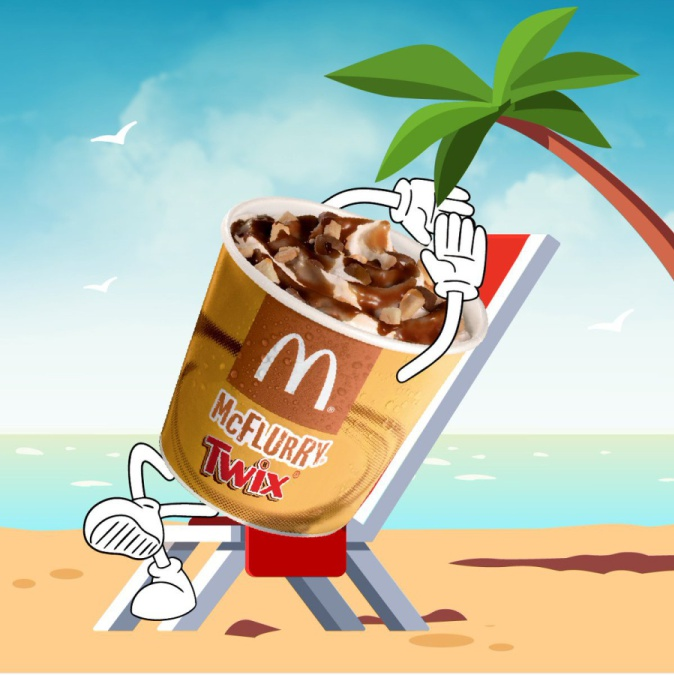mcdonalds: (247, 328, 342, 415)
